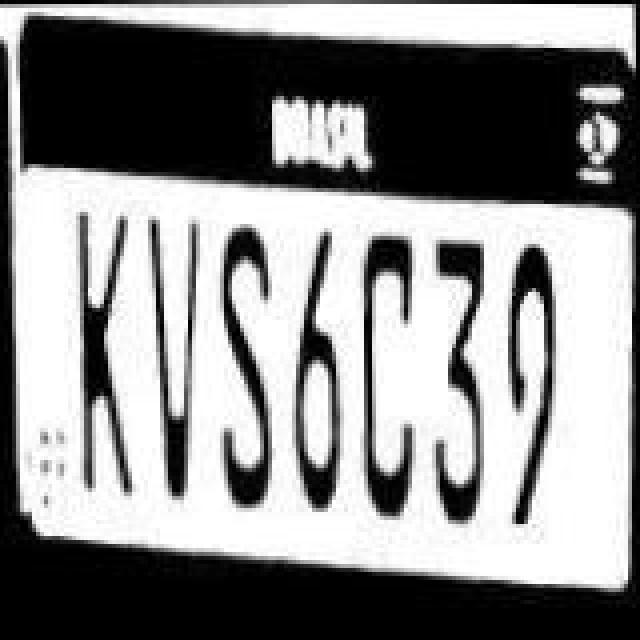3: (430, 224, 498, 528)
6: (284, 212, 356, 520)
9: (508, 250, 568, 534)
C: (360, 230, 424, 522)
K: (68, 190, 140, 498)
S: (214, 224, 282, 512)
V: (146, 212, 206, 500)
